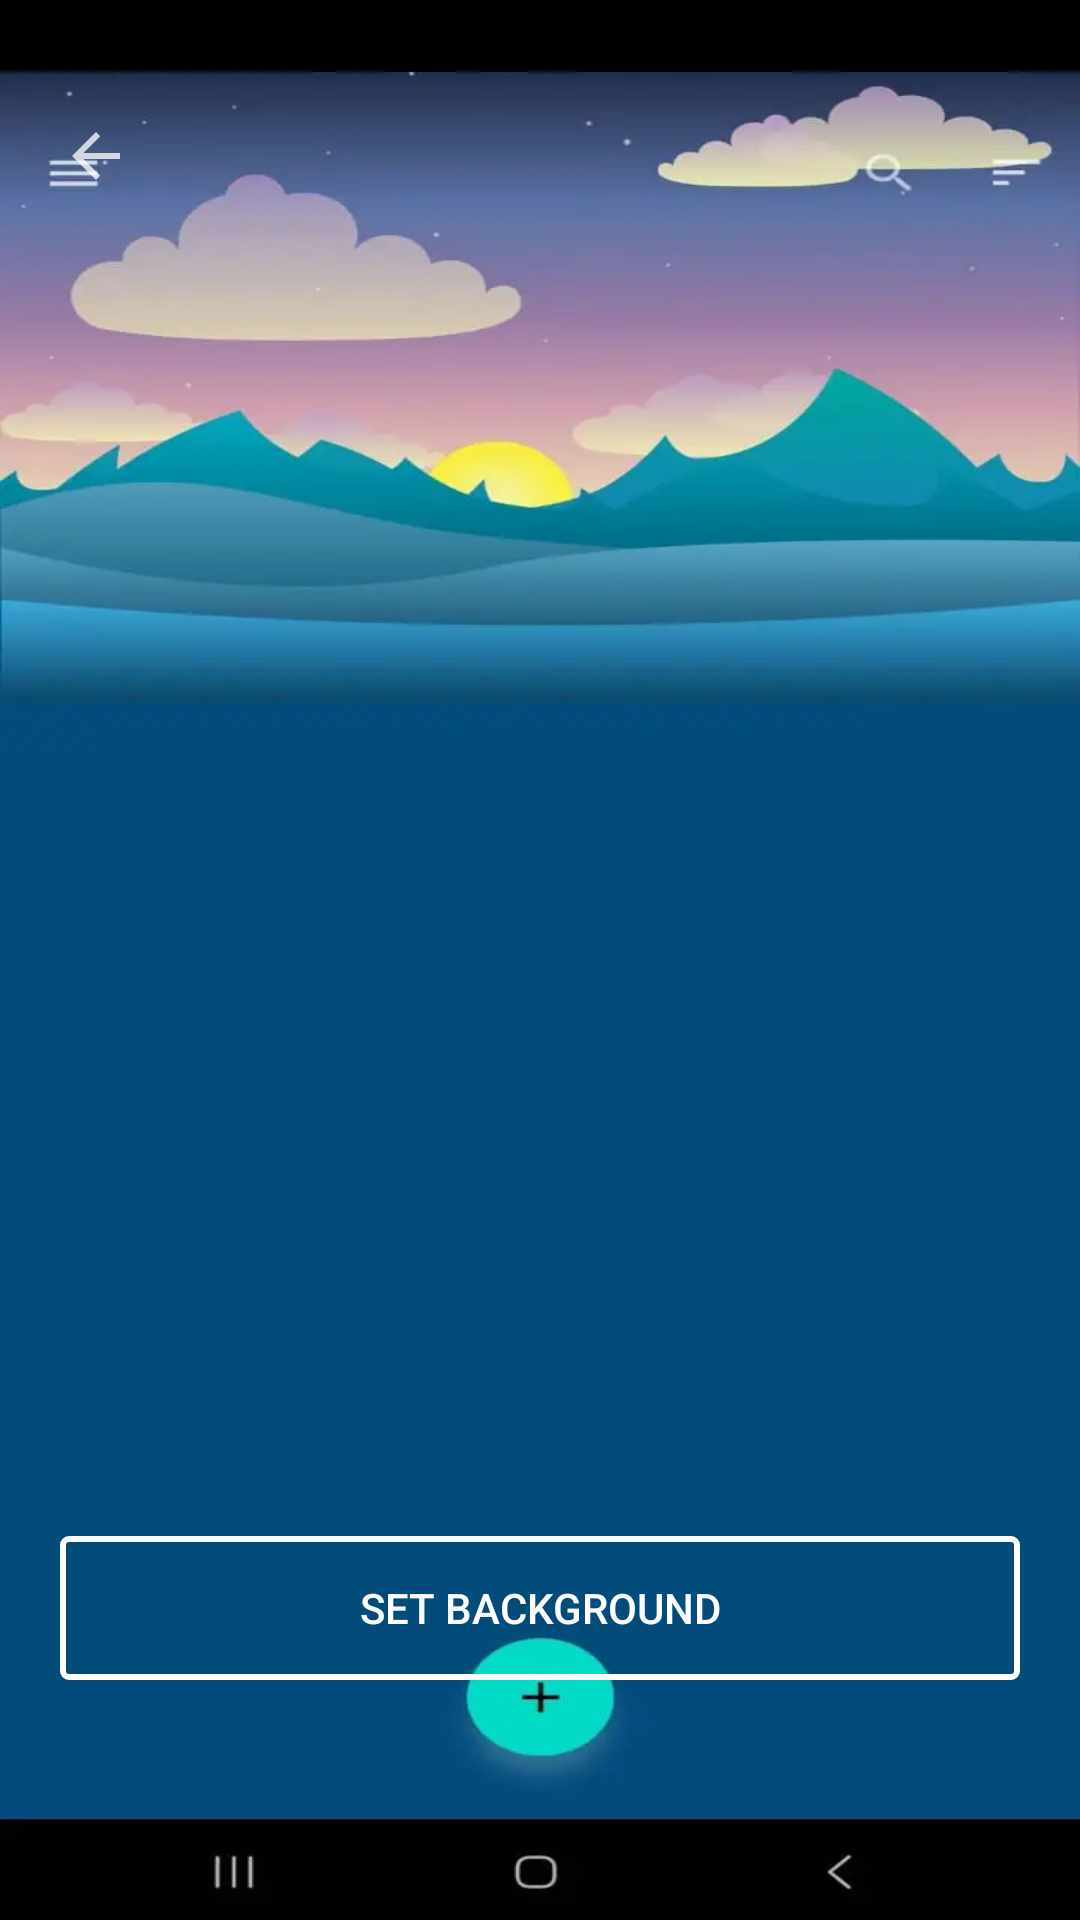

Screen size 1080 × 1920. Icon name, then its center in pixels as [x,y]:
arrow back: [96,156]
